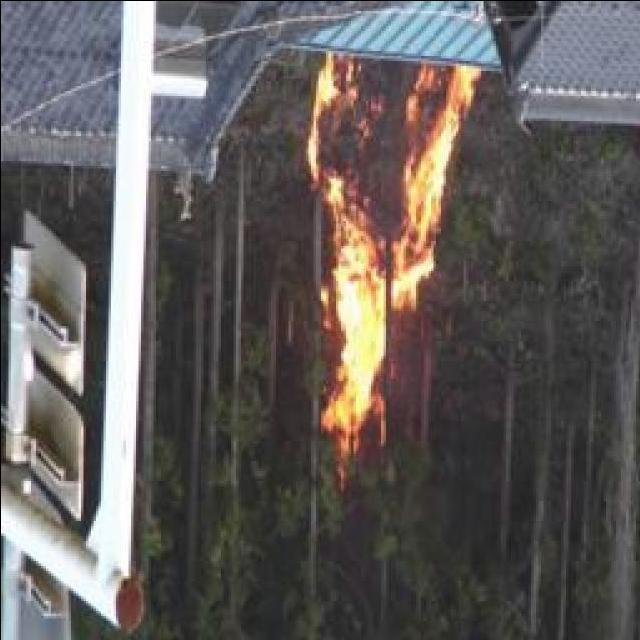Fire: (307, 50, 474, 428)
